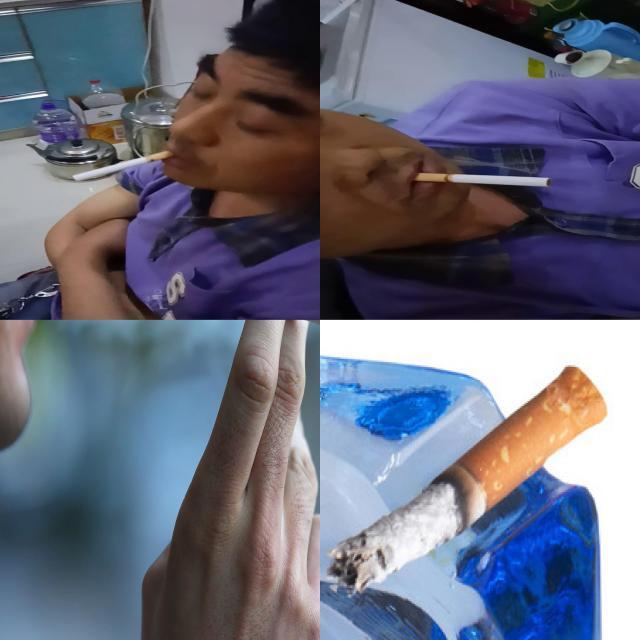cigarette: (327, 363, 610, 592), (74, 150, 174, 182), (236, 320, 320, 350), (413, 173, 552, 188)
